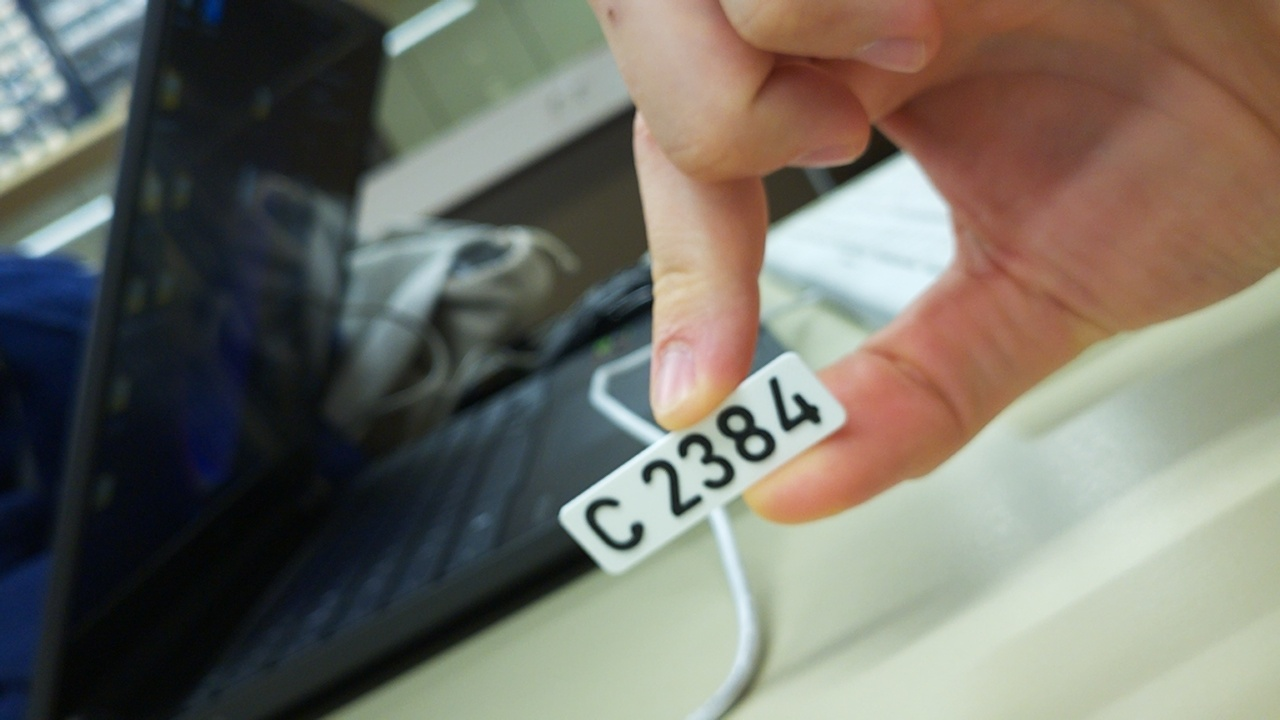license_plate: (555, 348, 850, 580)
